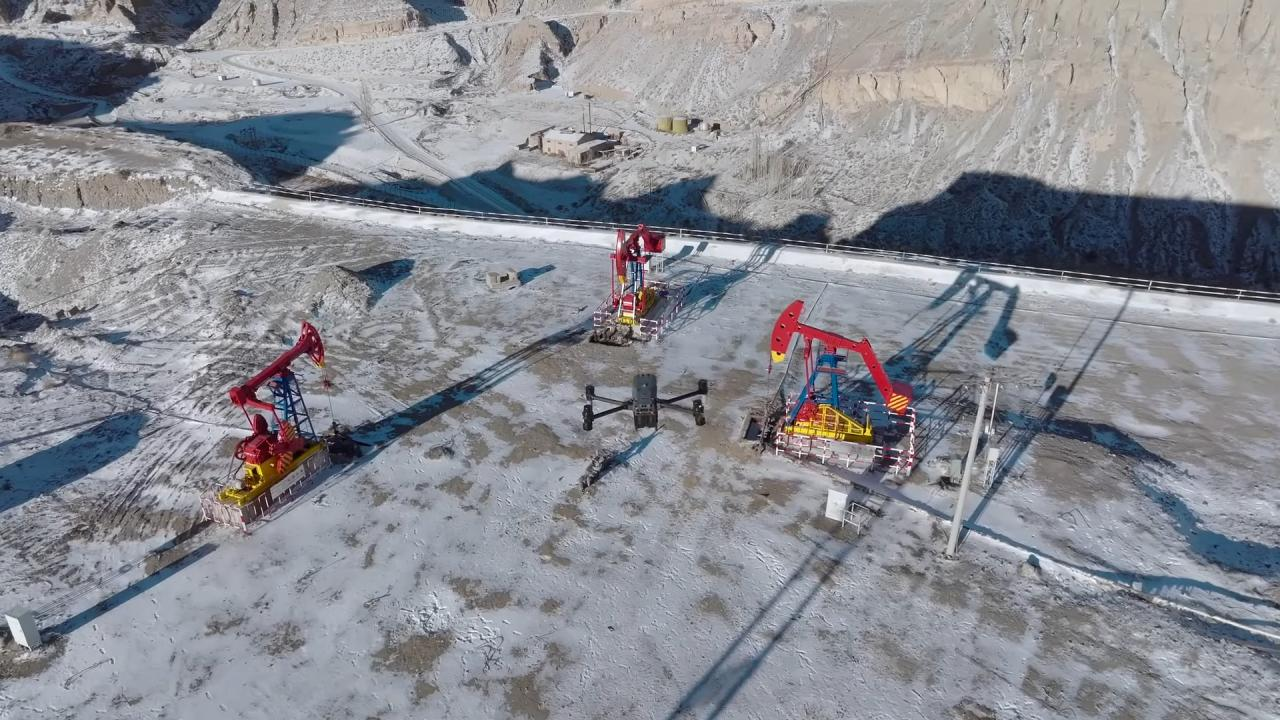Drone: (570, 362, 722, 444)
